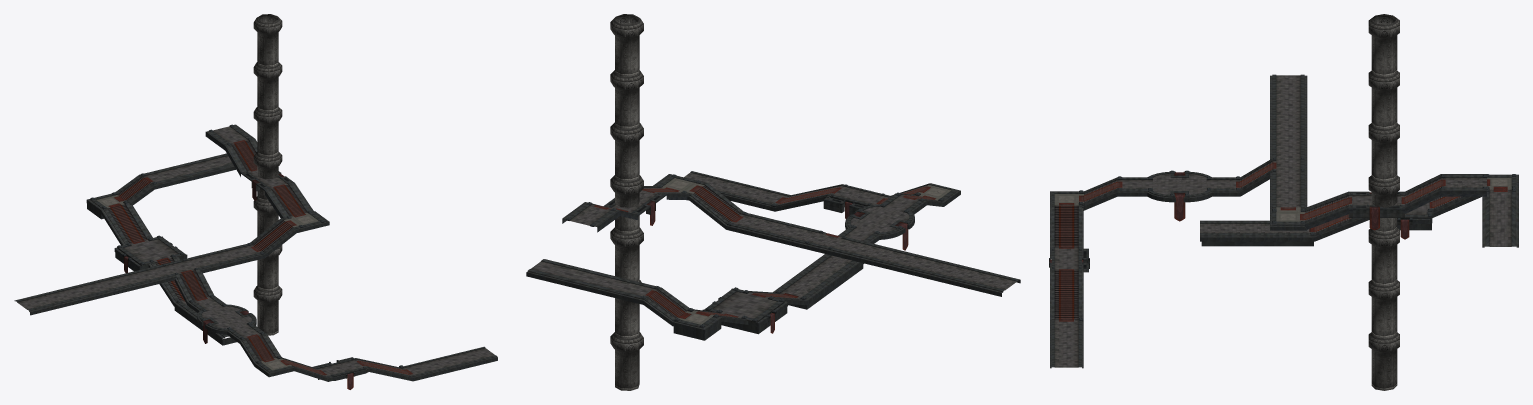
File: tongtianta.fbx
3 renders of one model, left to right at view 1: azimuth 30°, elevation 25°; view 2: azimuth 150°, elevation 25°; view 3: azimuth 270°, elevation 25°, orthographic. The views are drawn at different scales.
Parts seen in each view (by area): view 1: tongtianta:Layer11, tongtianta:Layer3, tongtianta:Layer2, tongtianta:Layer1, tongtianta:Layer9, tongtianta:Layer8, tongtianta:Layer10; view 2: tongtianta:Layer11, tongtianta:Layer3, tongtianta:Layer2, tongtianta:Layer9, tongtianta:Layer10, tongtianta:Layer8, tongtianta:Layer1; view 3: tongtianta:Layer2, tongtianta:Layer11, tongtianta:Layer3, tongtianta:Layer10, tongtianta:Layer9, tongtianta:Layer1, tongtianta:Layer8.
Boxes of the visible parts, x1,y1,x2,y2 form: tongtianta:Layer11: (14,124,497,381); tongtianta:Layer3: (86,153,236,345); tongtianta:Layer2: (253,14,282,335); tongtianta:Layer1: (225,139,313,218); tongtianta:Layer9: (187,295,266,343); tongtianta:Layer8: (150,252,229,305); tongtianta:Layer10: (281,356,413,389); tongtianta:Layer11: (562,171,1020,296); tongtianta:Layer3: (526,254,863,340); tongtianta:Layer2: (610,14,643,390); tongtianta:Layer9: (838,193,926,250); tongtianta:Layer10: (775,183,929,218); tongtianta:Layer8: (768,222,864,258); tongtianta:Layer1: (592,186,687,225); tongtianta:Layer2: (1368,14,1399,390); tongtianta:Layer11: (1050,74,1487,368); tongtianta:Layer3: (1200,174,1518,247); tongtianta:Layer10: (1049,205,1089,319); tongtianta:Layer9: (1117,170,1240,221); tongtianta:Layer1: (1304,174,1441,230); tongtianta:Layer8: (1240,150,1307,196).
Size of the model in its own units: 38830 by 31042 by 36104.
